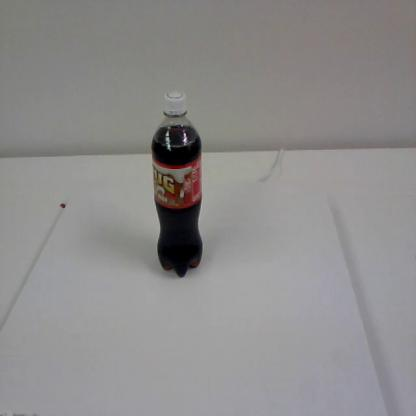bottle: (151, 88, 203, 279)
